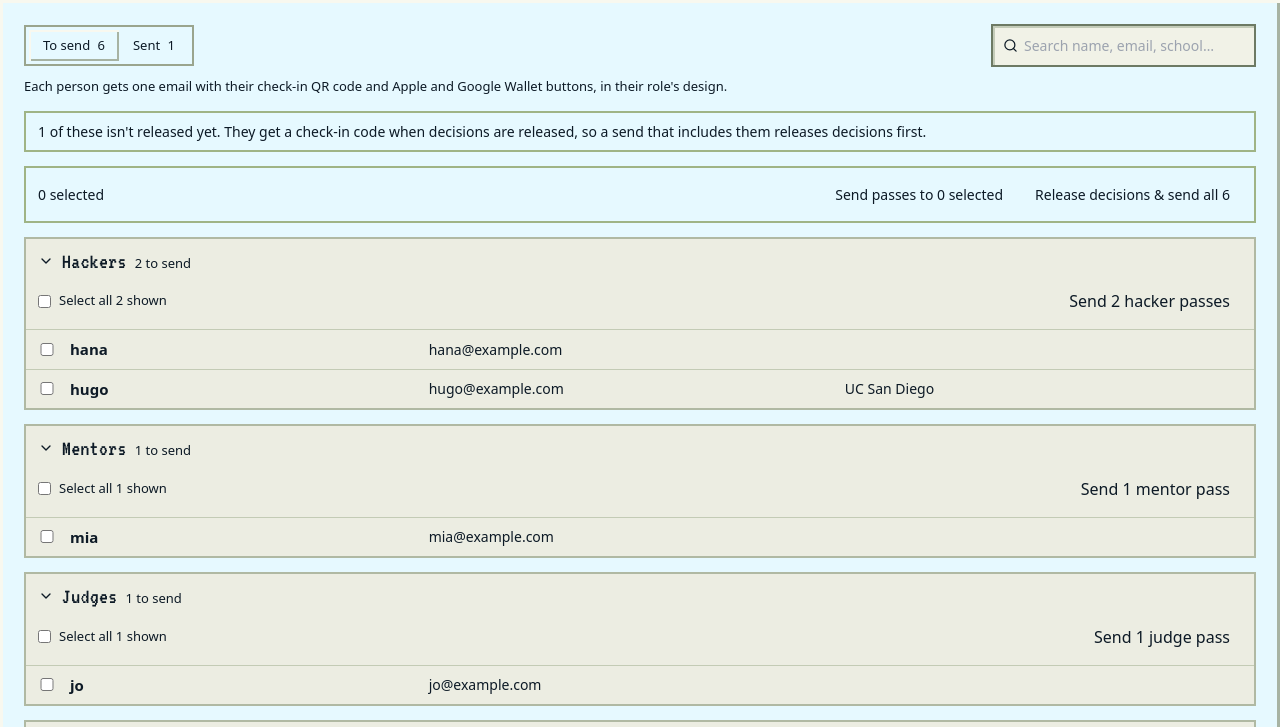
Test: PassesPage › sends to exactly the selected people when they're all released
This screenshot has width=1280, height=727.
Expected: the button "Send passes to 0 selected" is disabled, [823,178,1015,210]
Click the checkbox named "Select hugo" at (47, 389), box [38,382,56,395]
(page scrolled)
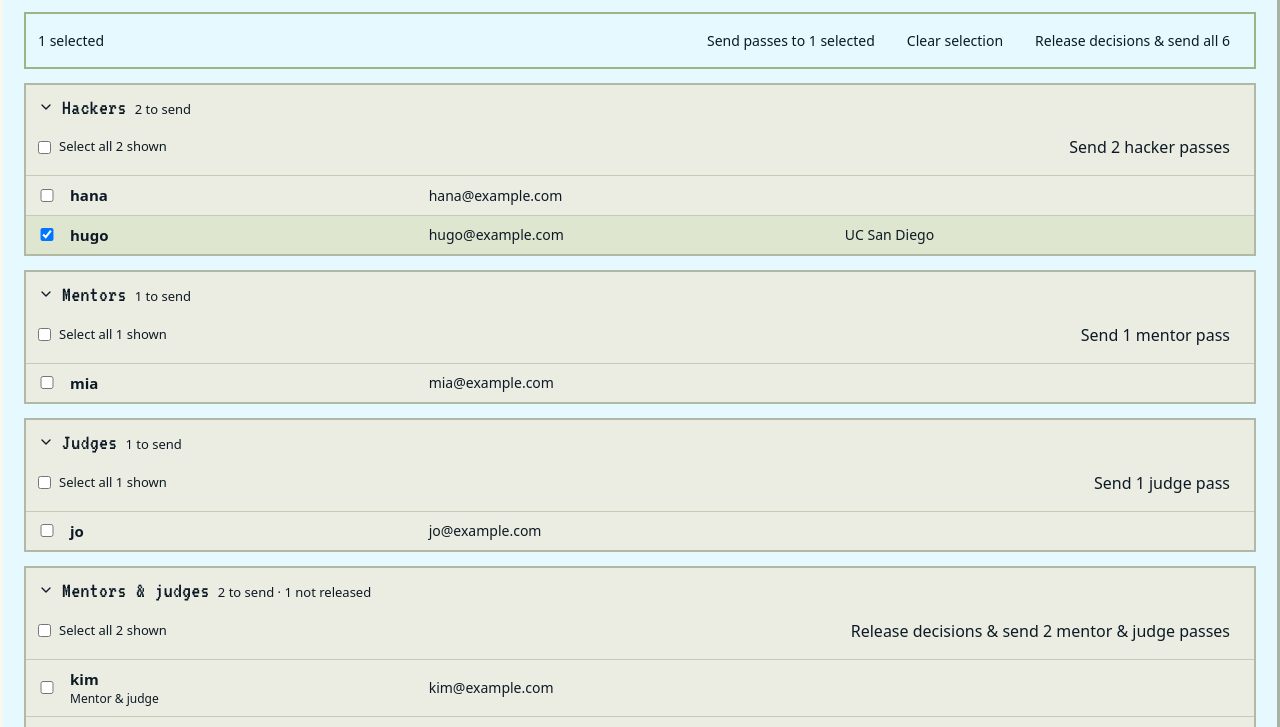
Click the checkbox named "Select kim" at (47, 688), box [38,681,56,694]
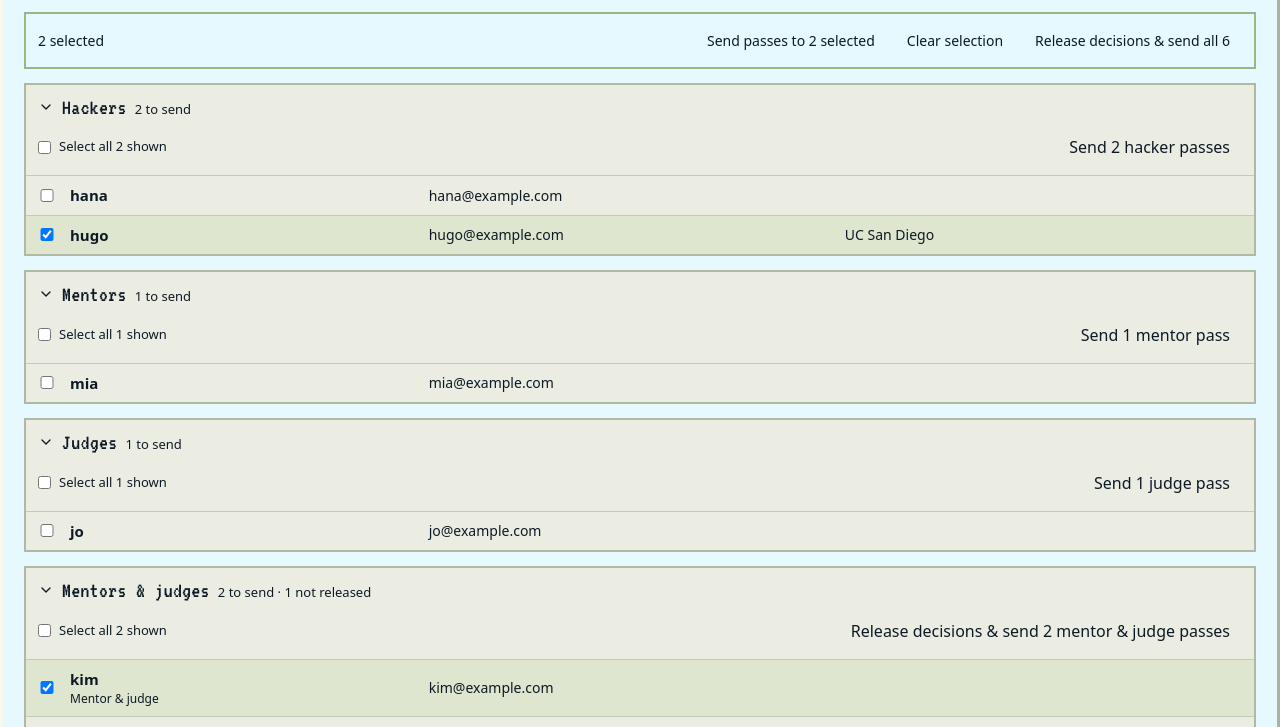
Now the button "Send passes to 2 selected" is shown
Click the button "Send passes to 2 selected" at (791, 40), box [695,24,887,56]
(page scrolled)
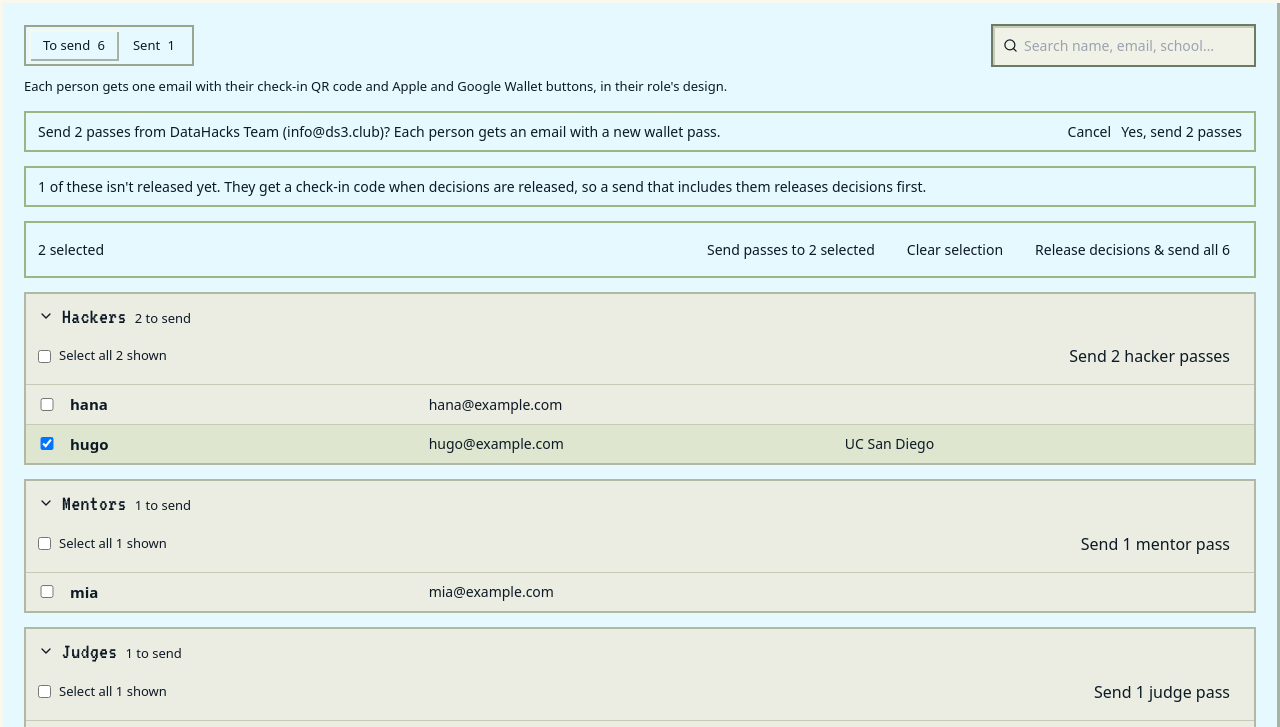
Now the text "Send 2 passes from DataHacks Team" is shown, box [38,122,721,140]
Click the button "Yes, send 2 passes" at (1182, 131), box [1121,120,1242,142]
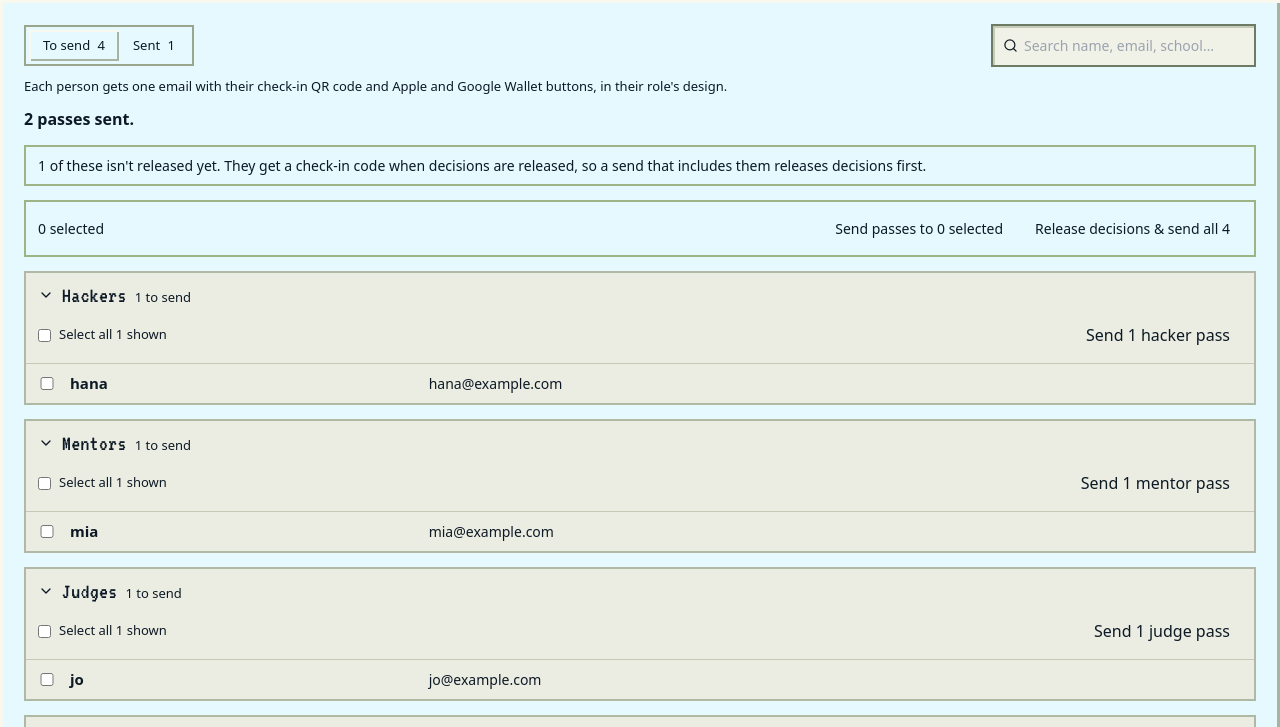
Now the text "2 passes sent." is shown, box [24,108,134,130]
Now the text "hugo" is gone
Now the tab "To send 4" is shown, box [29,30,119,61]
